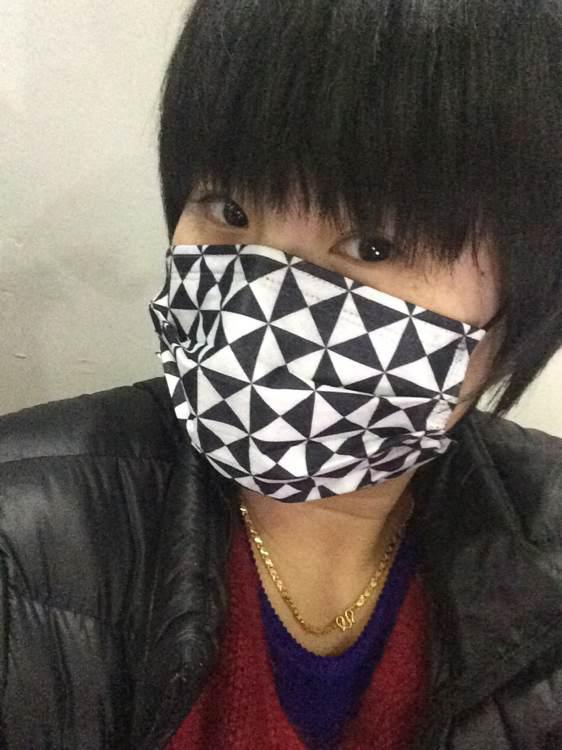OK: (143, 116, 516, 489)
